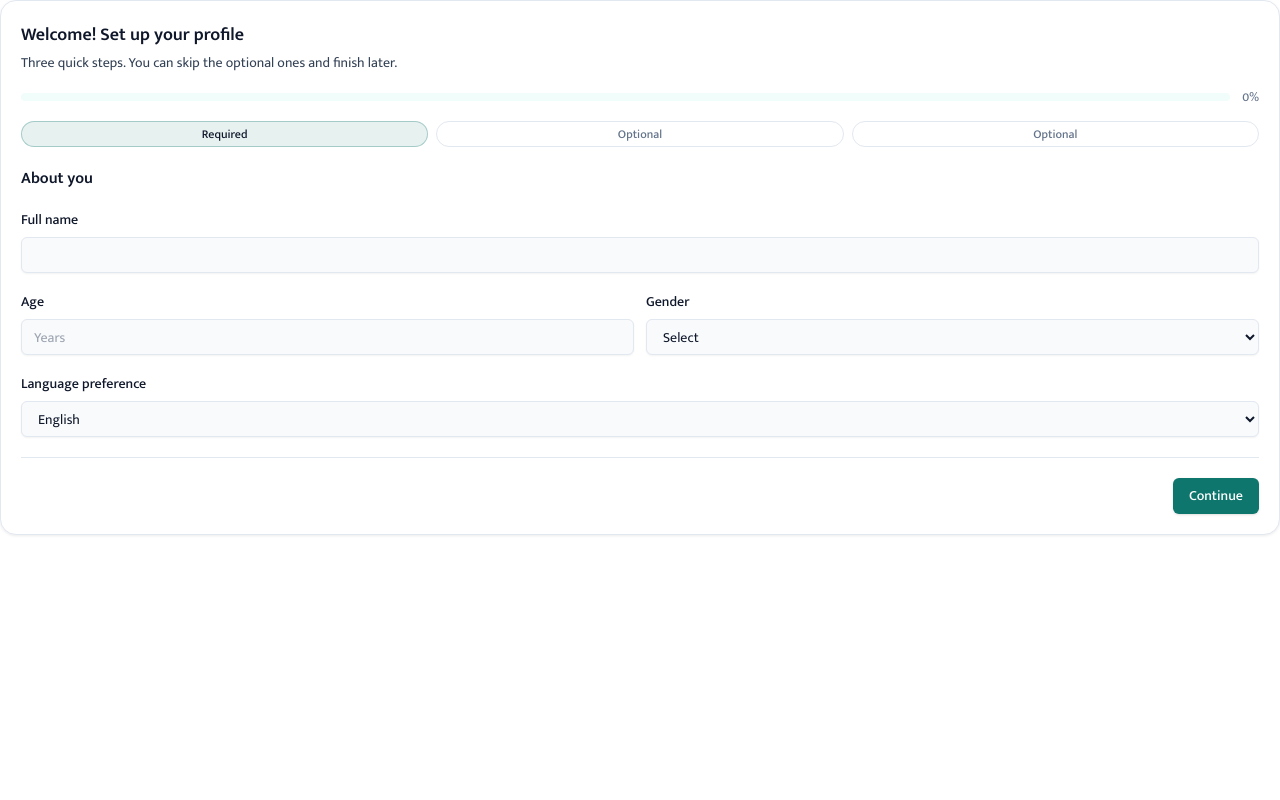
Scenario: ProfileCompletionWizard › blocks Continue until basics are complete and names each gap
The width and height of the screenshot is (1280, 800).
Click the button with test id "pc-next" at (1216, 496), box [1173, 478, 1259, 514]
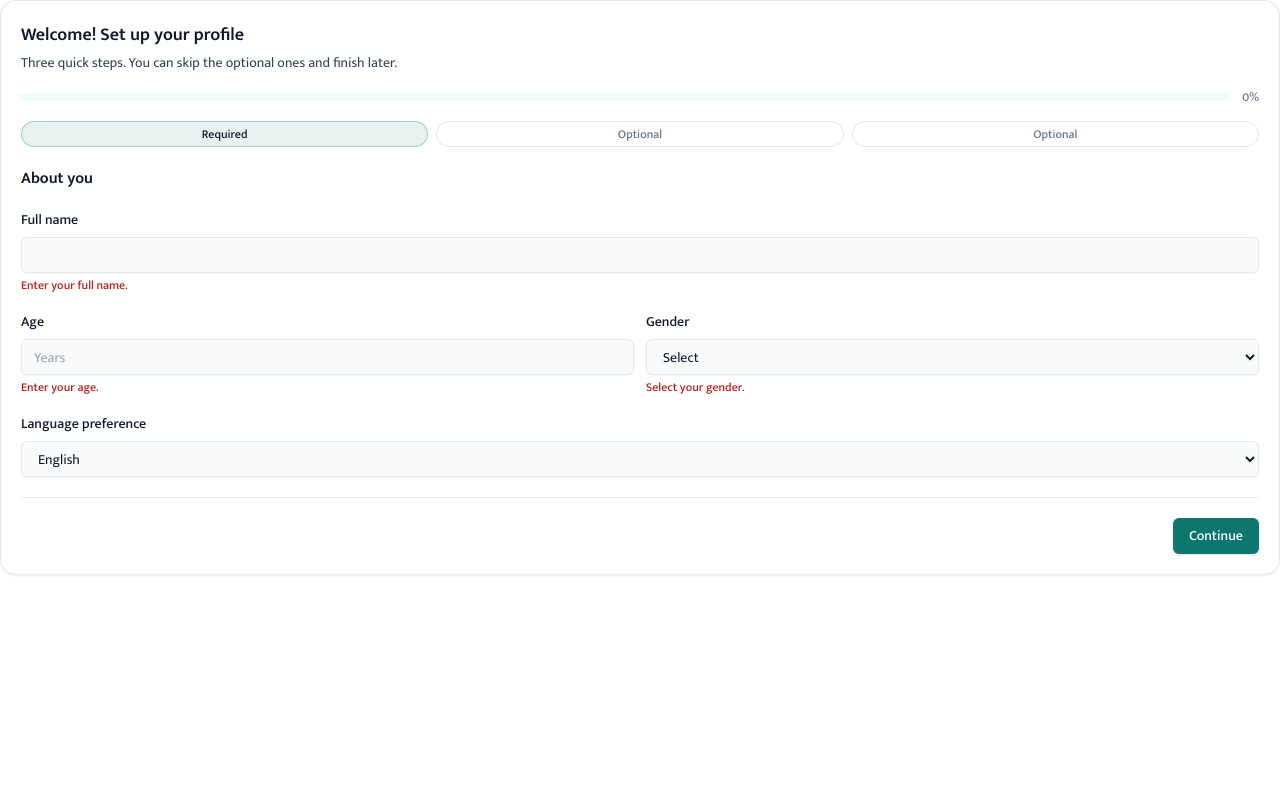
Expected: the message "Enter your full name." is shown, [21, 275, 128, 295]
Expected: the message "Enter your age." is shown, [21, 377, 99, 397]
Expected: the message "Select your gender." is shown, [646, 377, 744, 397]
